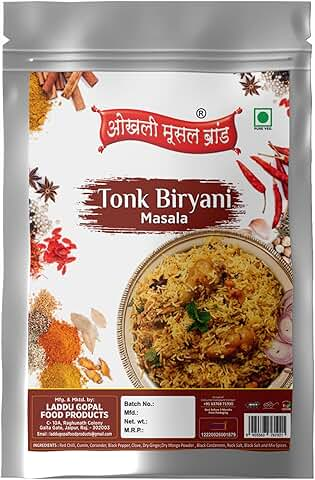Biryani: (4, 8, 315, 478)
